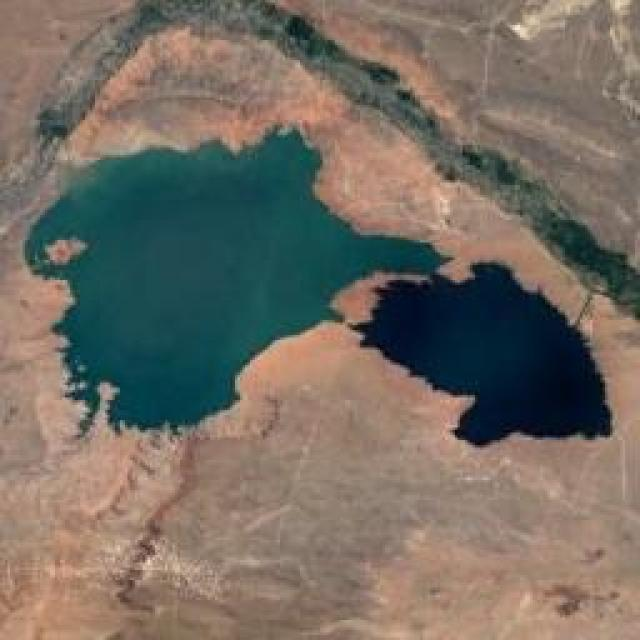Desert: (0, 0, 638, 638)
Lake: (18, 100, 618, 484)
